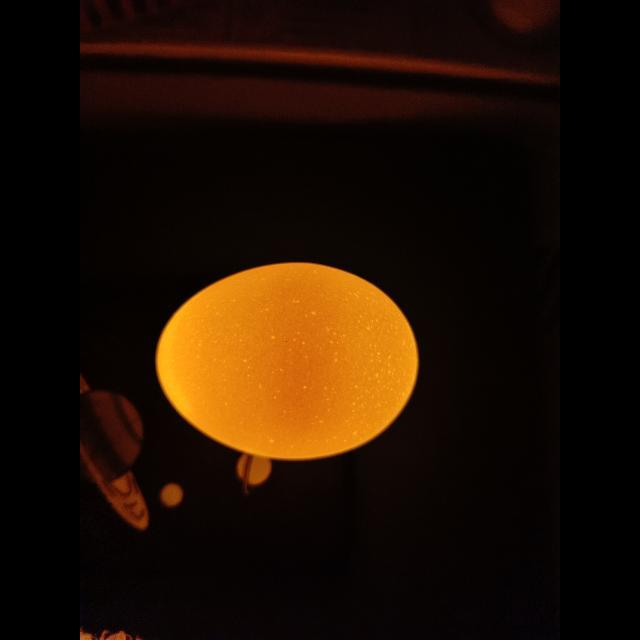AA - Premium: (156, 263, 419, 460)
